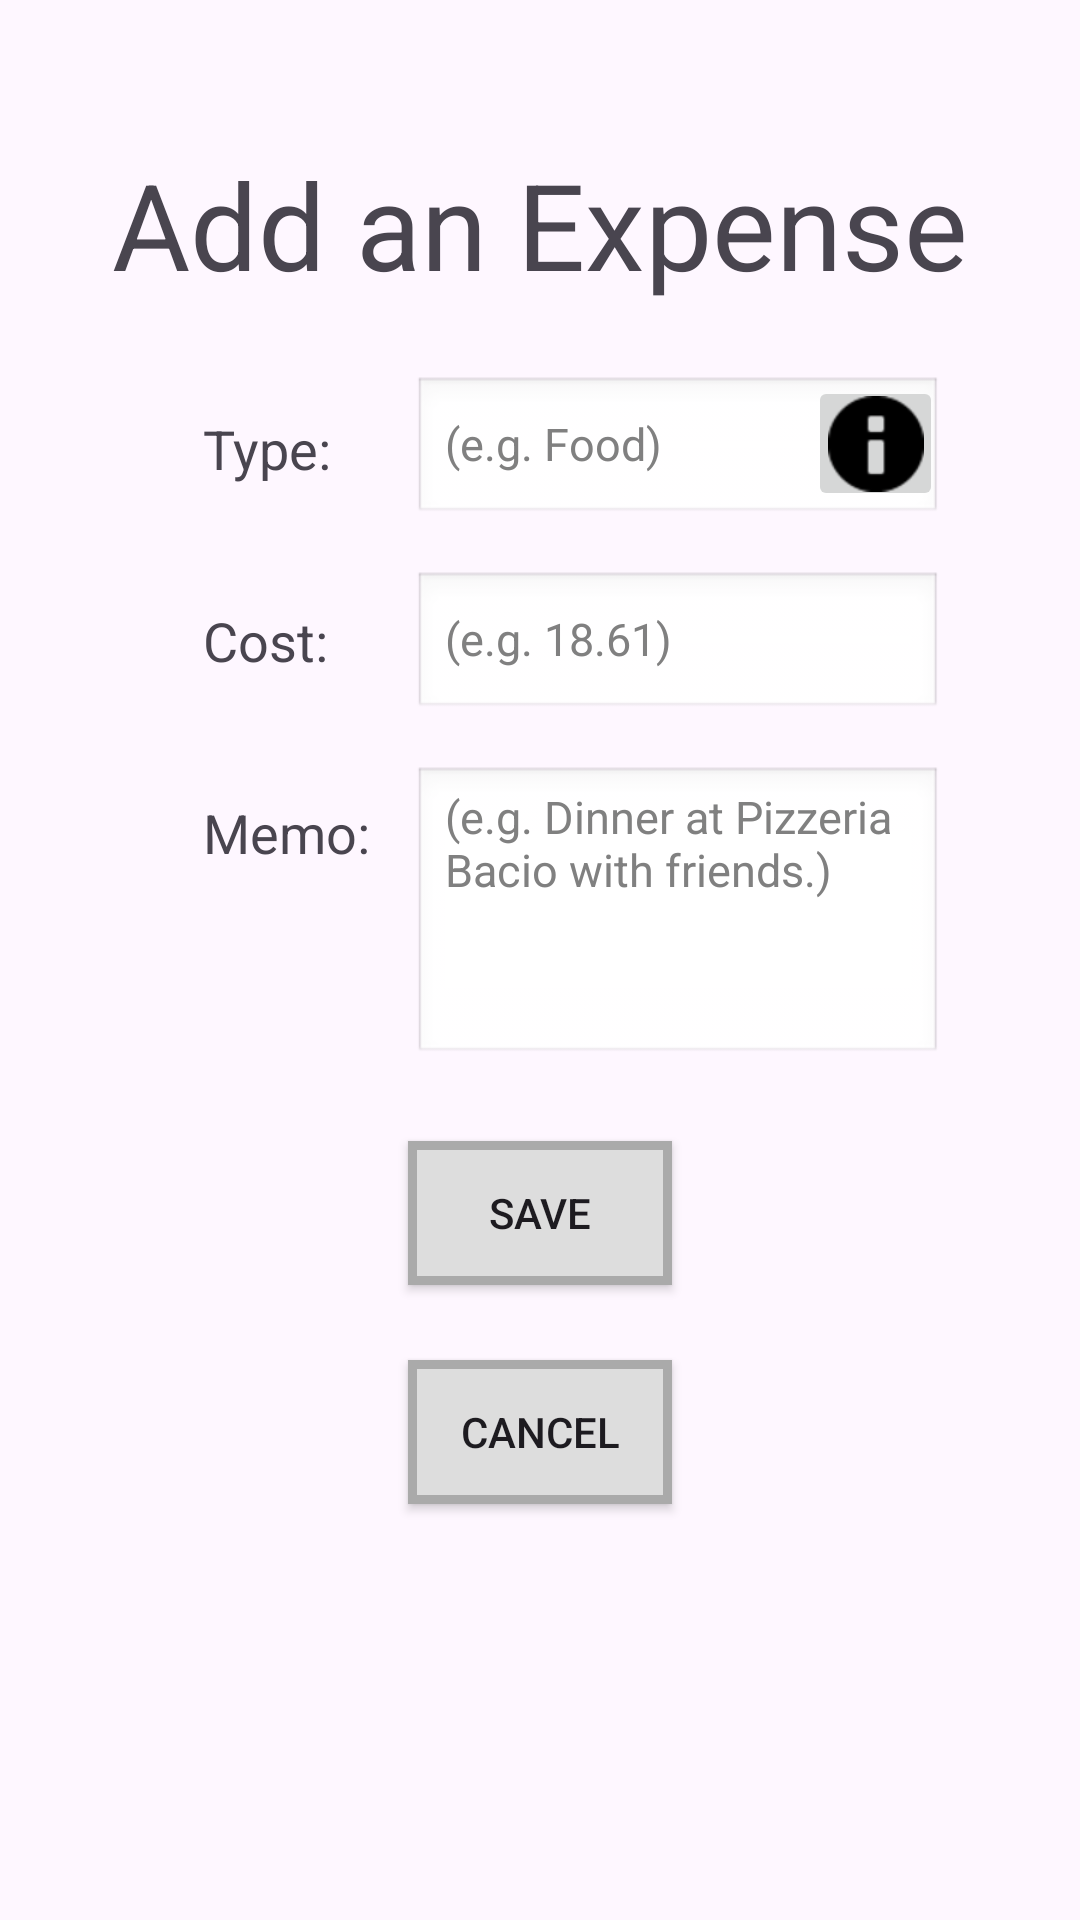

Point at icon controls on the screen. Image size 1080px×1920px, points as (x=x, y=y).
info: (x=875, y=443)
